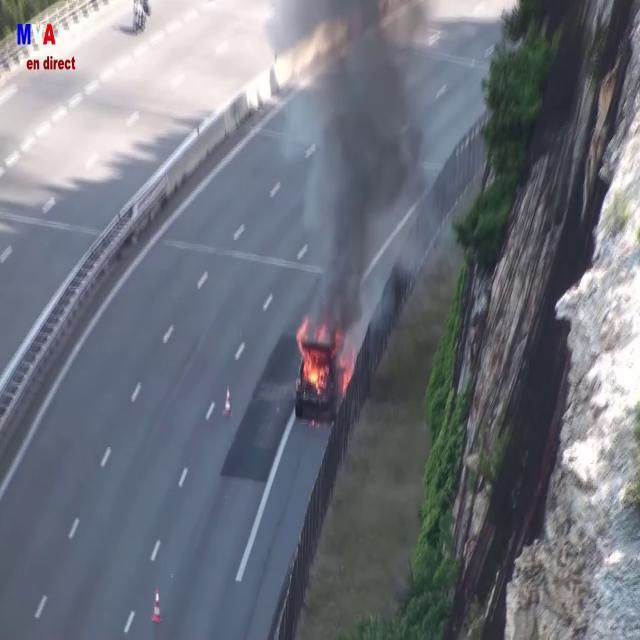Fire: (296, 334, 328, 398)
Smoke: (306, 1, 452, 356)
